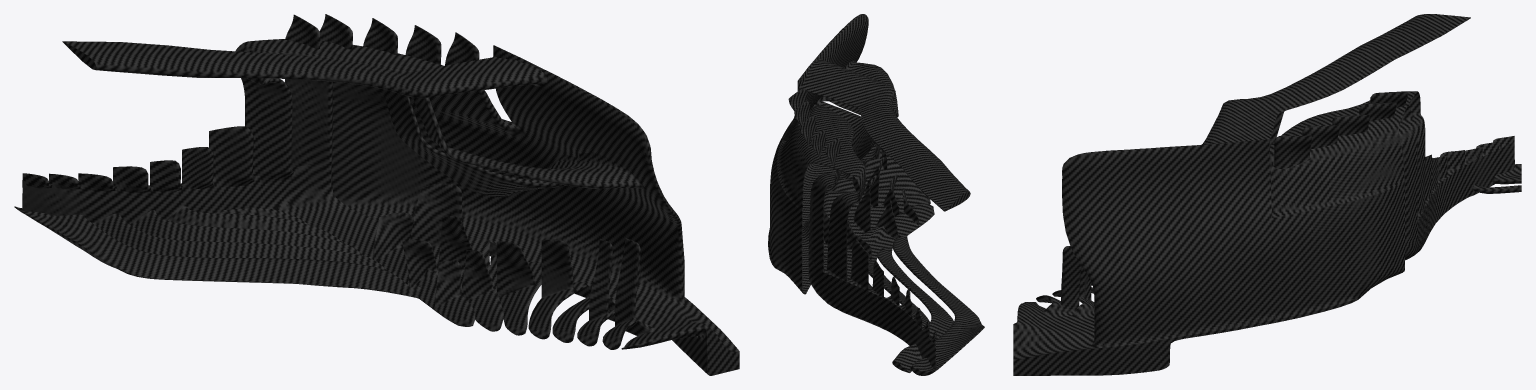
The model's file is rdeflector.glb.
3 views of the same model, side by side, from view 1: azimuth 30°, elevation 25°; view 2: azimuth 150°, elevation 25°; view 3: azimuth 270°, elevation 25° (orthographic). The views are drawn at different scales.
Parts seen in each view (by area): view 1: Deflector_RT_geo; view 2: Deflector_RT_geo; view 3: Deflector_RT_geo.
Part boxes in pixels (x1=…): Deflector_RT_geo: x1=14, y1=14, x2=739, y2=375; Deflector_RT_geo: x1=768, y1=14, x2=984, y2=375; Deflector_RT_geo: x1=1013, y1=14, x2=1521, y2=375.
Bounding box in the file's own units: 1.56 × 0.8308 × 1.93.
1 material, 1 textured.
